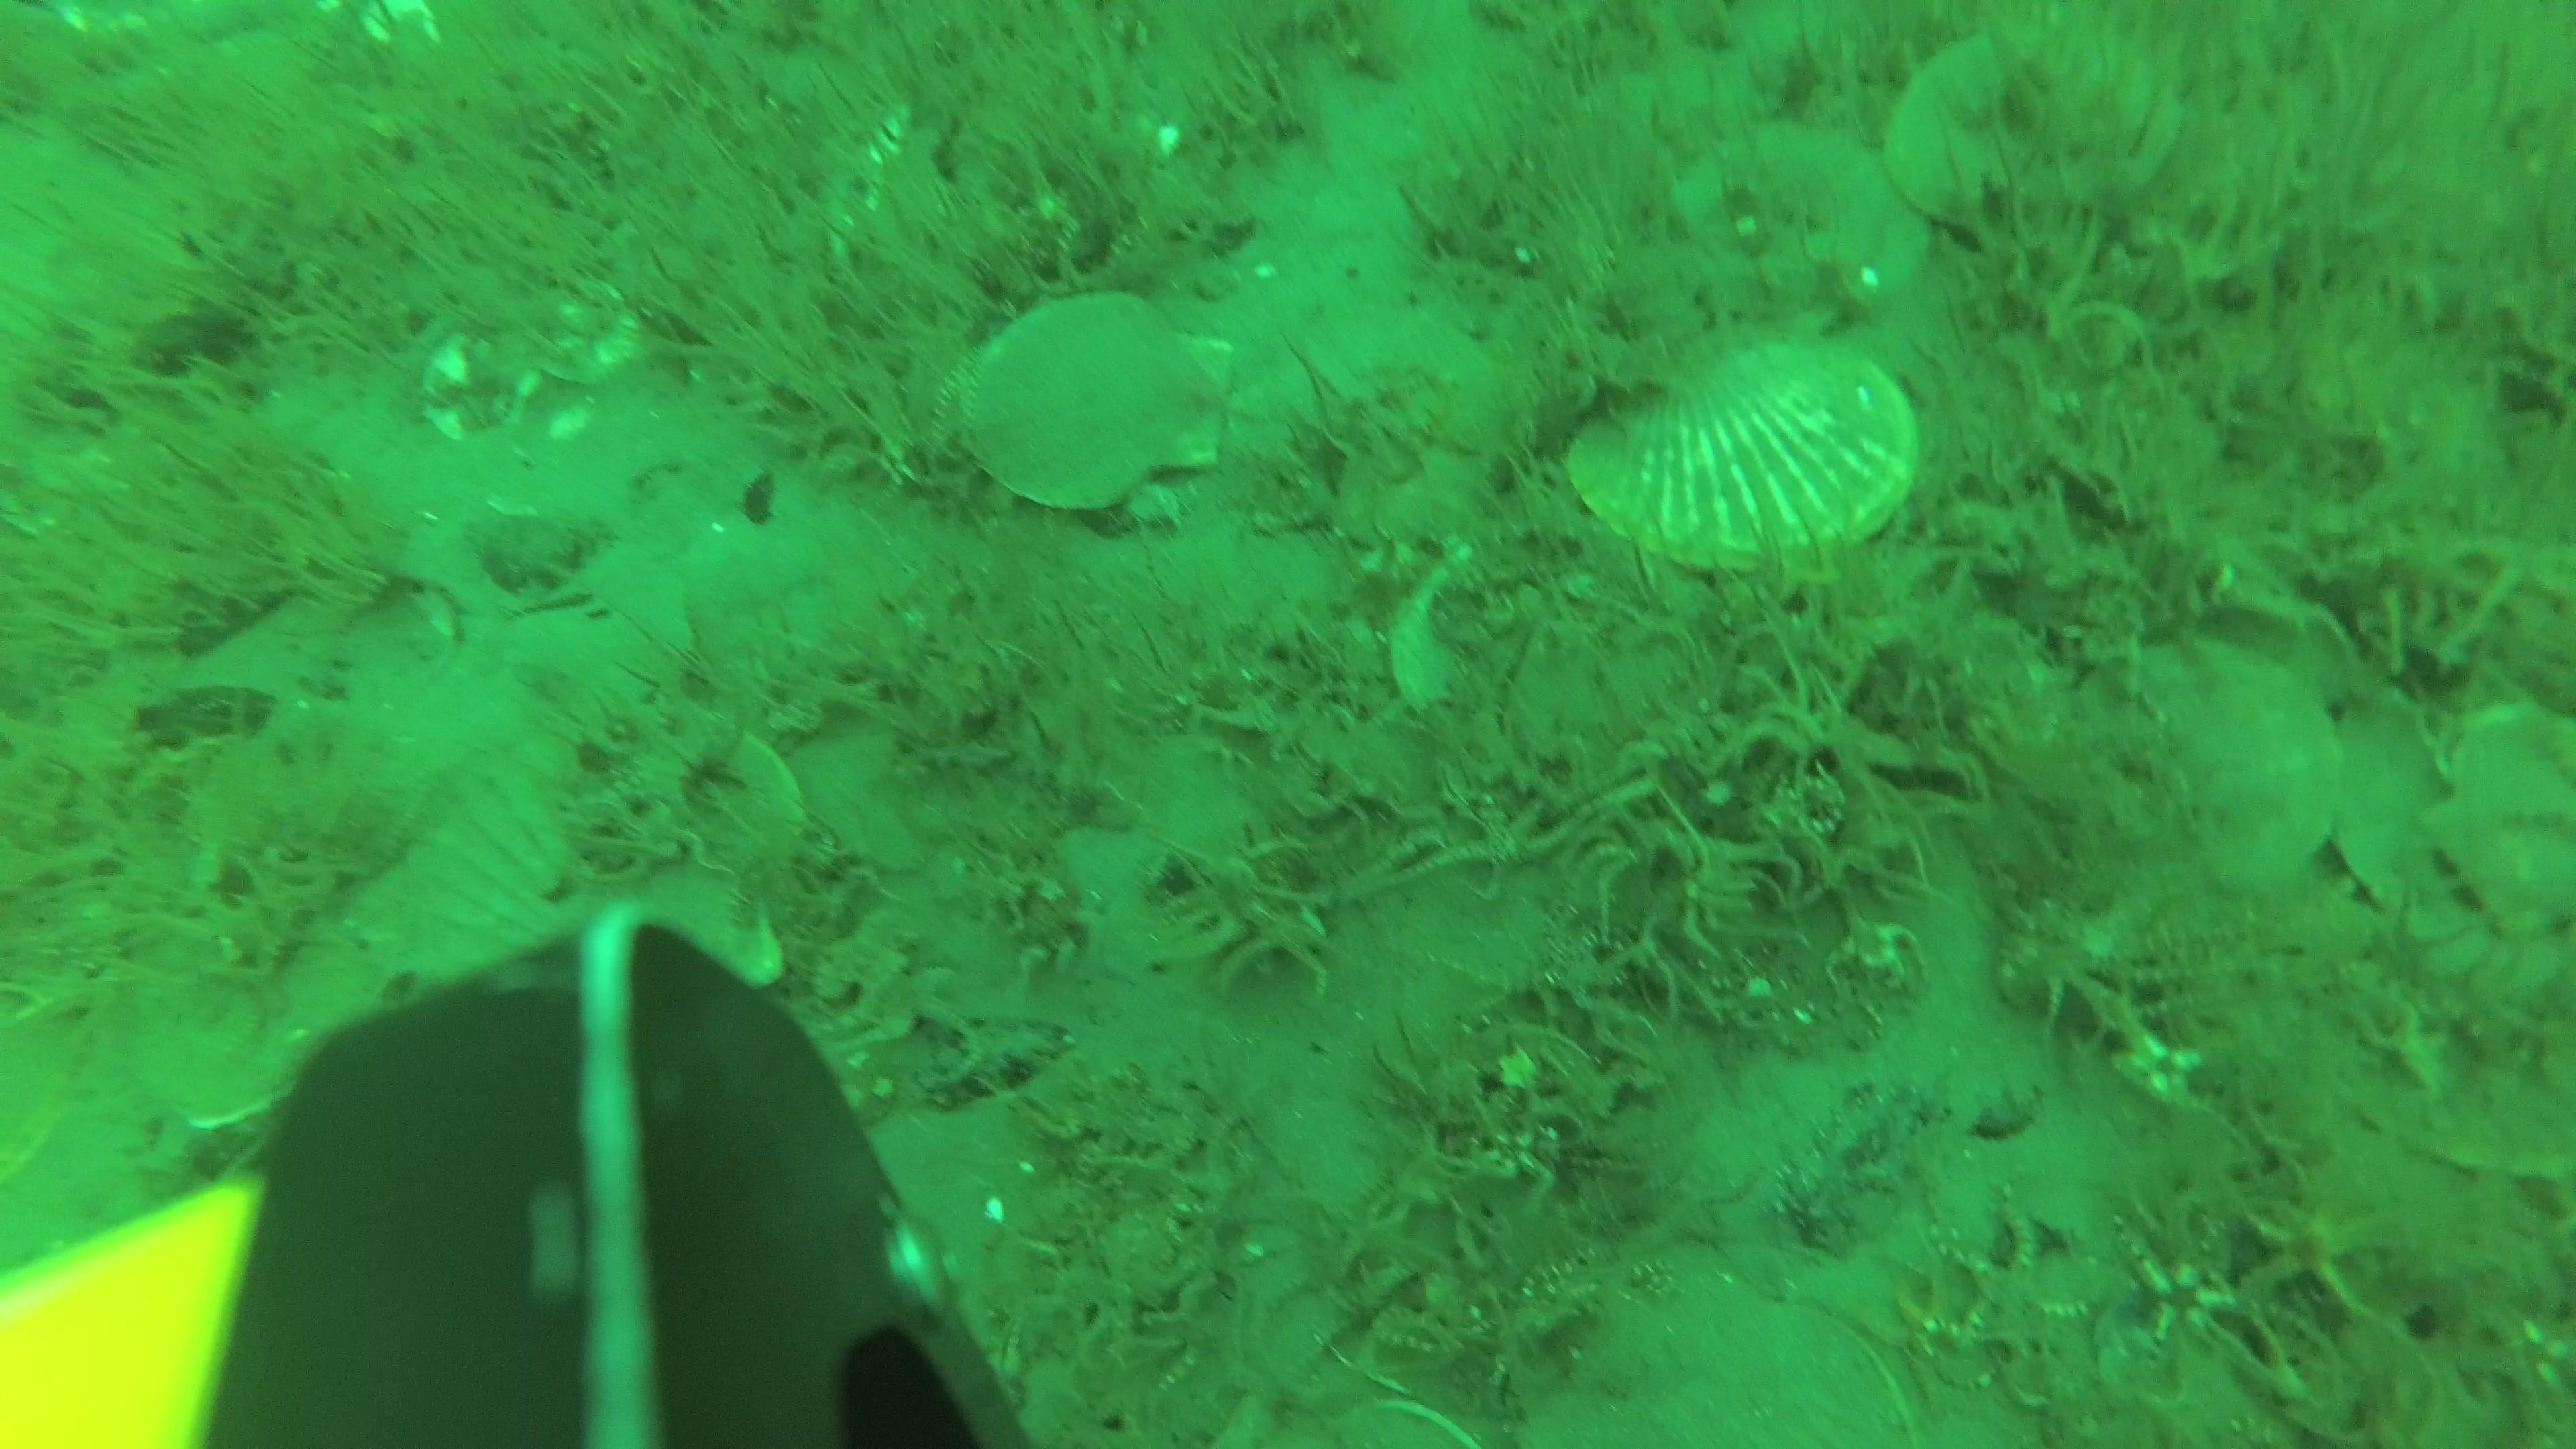scallop: (405, 717, 801, 1017), (1568, 329, 1921, 563), (1888, 23, 2185, 230), (962, 294, 1226, 506), (2160, 635, 2350, 885)
